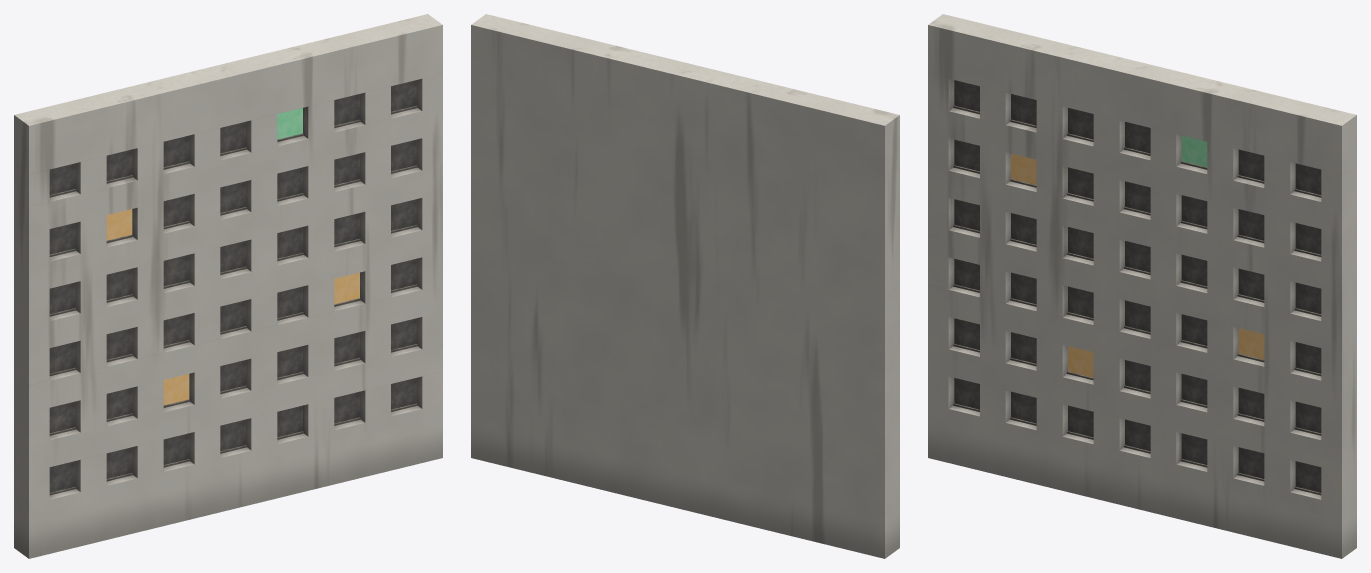
The model's file is window_grid_wall.fbx.
The picture shows the model from 3 angles, left to right: view 1: azimuth 30°, elevation 25°; view 2: azimuth 150°, elevation 25°; view 3: azimuth 330°, elevation 25°; orthographic projection.
Visible parts, largest first — view 1: Body, Glow; view 2: Body; view 3: Body, Glow.
Part boxes in pixels (left/top/right/bottom): Body: left=14, top=14, right=442, bottom=558; Glow: left=106, top=108, right=359, bottom=405; Body: left=471, top=14, right=899, bottom=558; Body: left=928, top=14, right=1356, bottom=558; Glow: left=1011, top=135, right=1264, bottom=377.
Bounding box in the file's own units: 16 × 16 × 1.
Materials: 1 (1 with a texture image).
